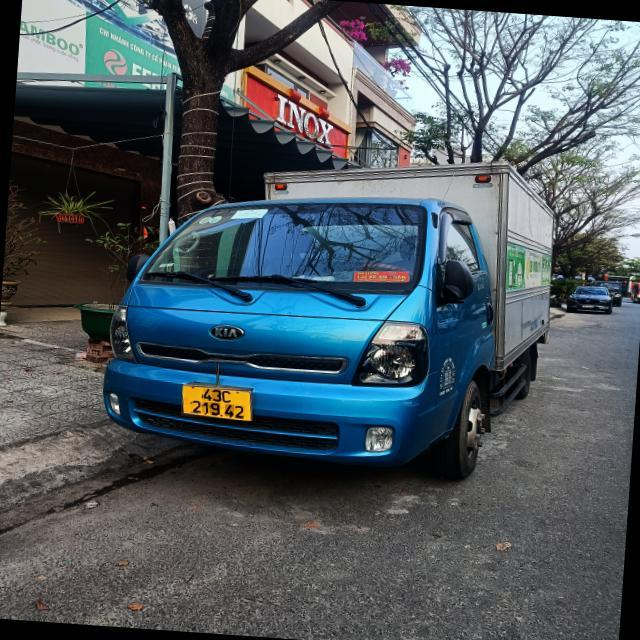car: (96, 181, 552, 486), (566, 280, 618, 317)
plate: (175, 377, 259, 427)
